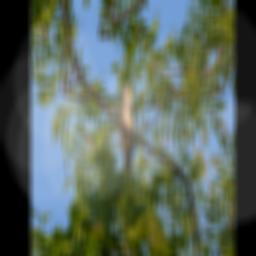Cuckoo: (101, 77, 157, 186)
